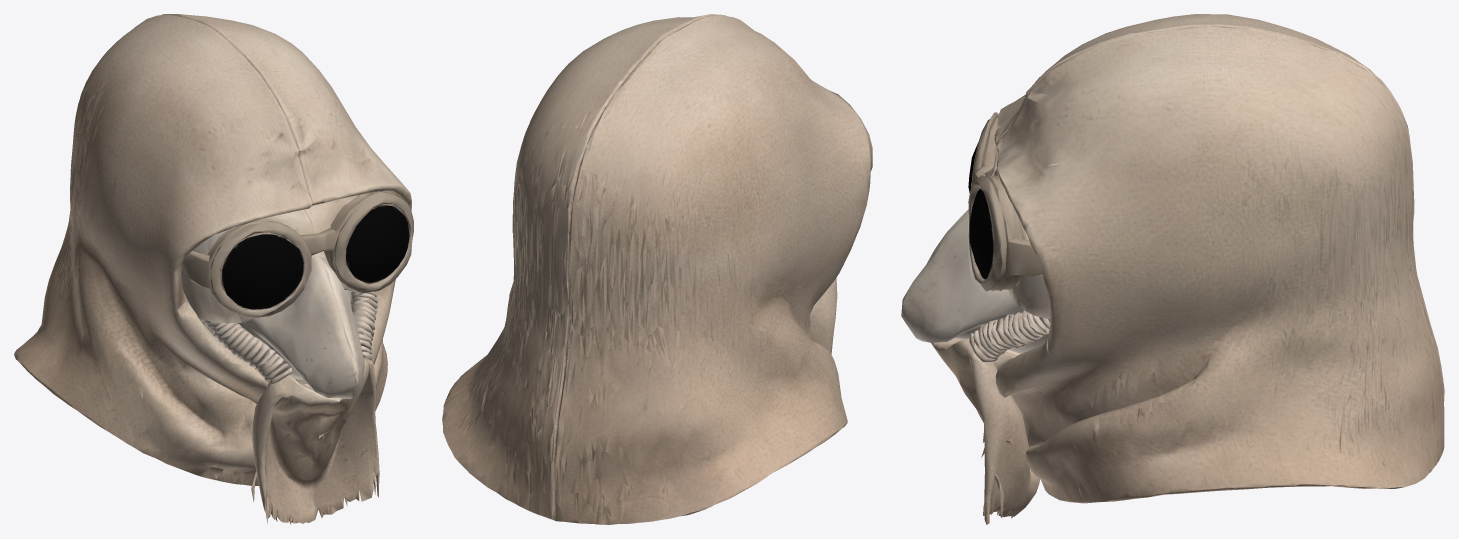
The model's file is nomad_maw_head.glb.
3 renders of one model, left to right at view 1: azimuth 30°, elevation 25°; view 2: azimuth 150°, elevation 25°; view 3: azimuth 270°, elevation 25°, orthographic. The views are drawn at different scales.
Visible parts, largest first — view 1: model; view 2: model; view 3: model.
Boxes of the visible parts, box(x1,y1,x2,y2) form: model: box(14, 14, 413, 524); model: box(442, 14, 872, 524); model: box(901, 14, 1444, 524).
Size of the model in its own units: 1.44 by 1.88 by 1.9.
Materials: 1 (1 with a texture image).
